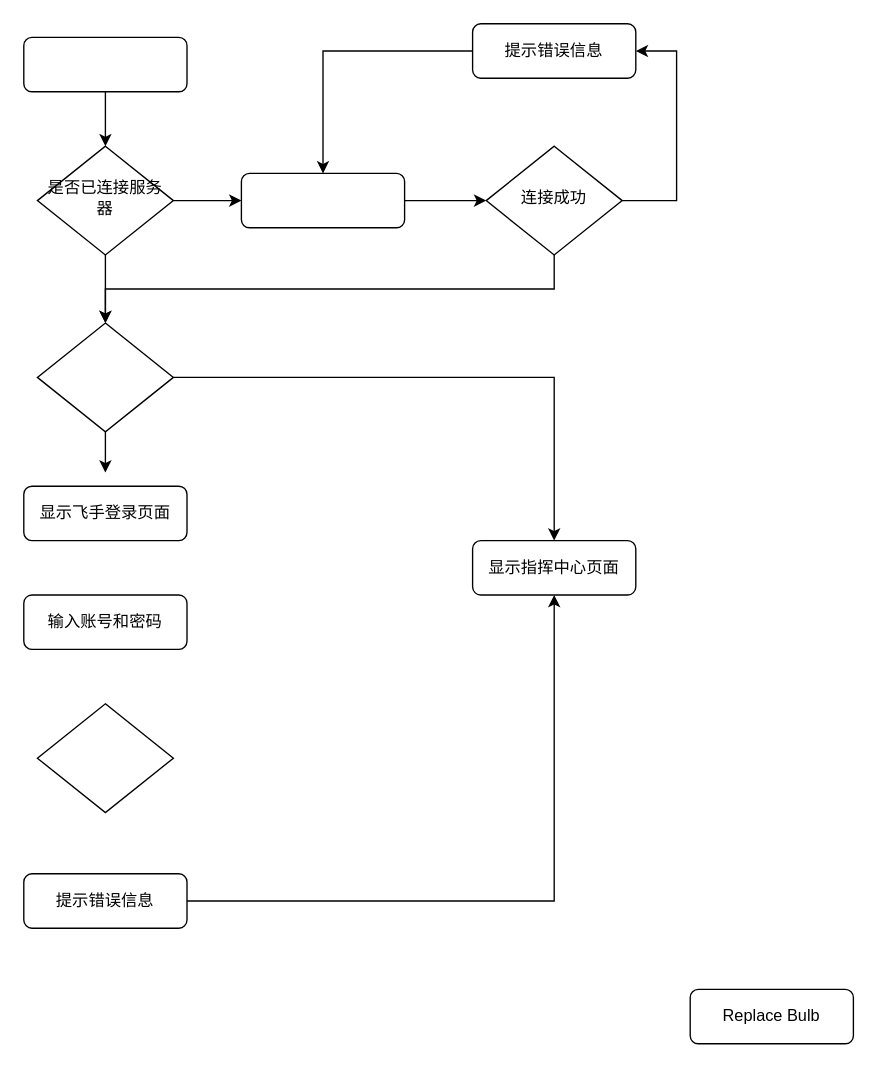
Some shapes in this 877 by 1068 pixel diagram are drawn without their labels. The box of each missing label's shape, as (x1, y1, x2, y2) in pixels:
检查是否已登录: (36, 322, 173, 432)
点击控制中心: (22, 36, 187, 92)
登录是否成功: (36, 702, 173, 813)
输入服务器网址: (240, 172, 405, 228)
